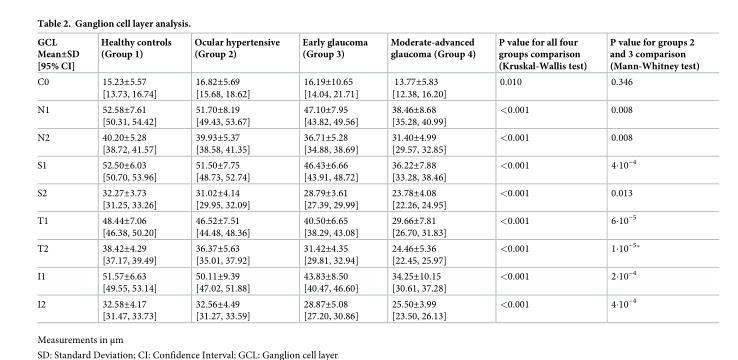table: (36, 36, 698, 320)
table column: (486, 36, 597, 320), (182, 36, 290, 320), (378, 36, 486, 320), (597, 36, 698, 320), (89, 36, 182, 320), (290, 36, 378, 320), (36, 36, 89, 320)
table column header: (36, 36, 698, 72)
table row: (36, 36, 698, 72), (36, 155, 698, 184), (36, 72, 698, 100), (36, 100, 698, 128), (36, 238, 698, 266), (36, 266, 698, 294), (36, 128, 698, 155), (36, 184, 698, 211), (36, 211, 698, 238), (36, 294, 698, 320)
